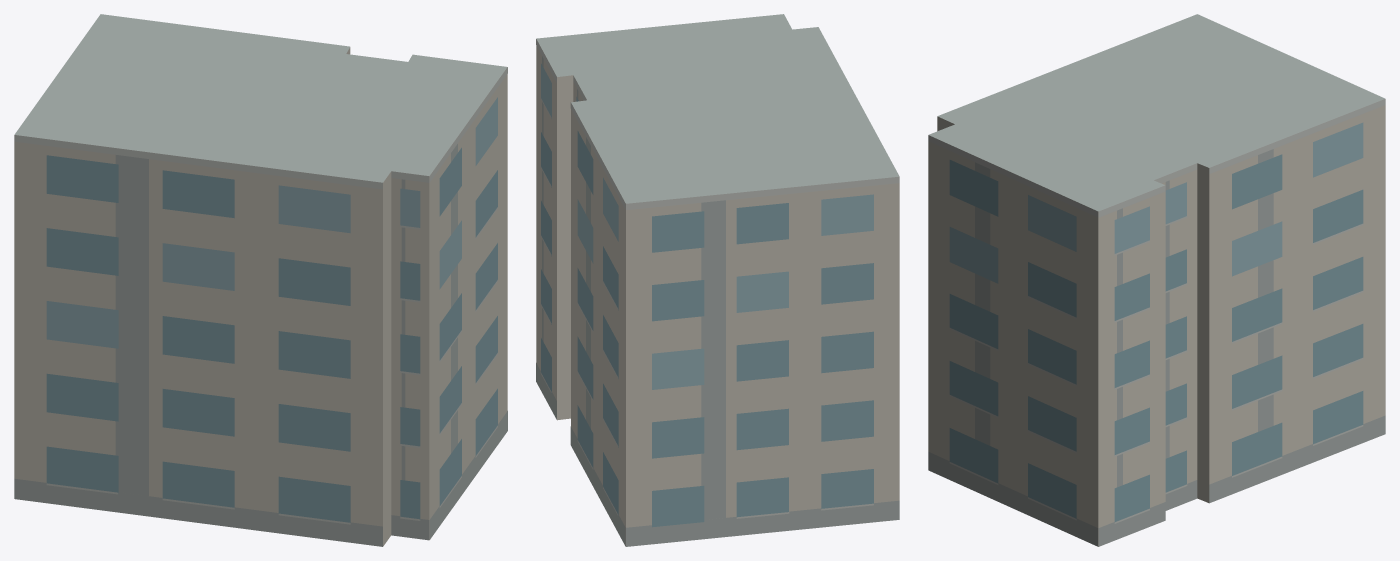
File: survey-upis-32650654.glb
The picture shows the model from 3 angles, left to right: view 1: azimuth 30°, elevation 25°; view 2: azimuth 150°, elevation 25°; view 3: azimuth 270°, elevation 25°; orthographic projection. The views are drawn at different scales.
Visible parts, largest first — view 1: survey-upis-32650654.tmp; view 2: survey-upis-32650654.tmp; view 3: survey-upis-32650654.tmp.
Boxes of the visible parts, bbox=[...] form: survey-upis-32650654.tmp: bbox=[14, 14, 507, 546]; survey-upis-32650654.tmp: bbox=[536, 14, 899, 546]; survey-upis-32650654.tmp: bbox=[928, 14, 1385, 546].
Size of the model in its own units: 16.56 by 13.1 by 16.2.
